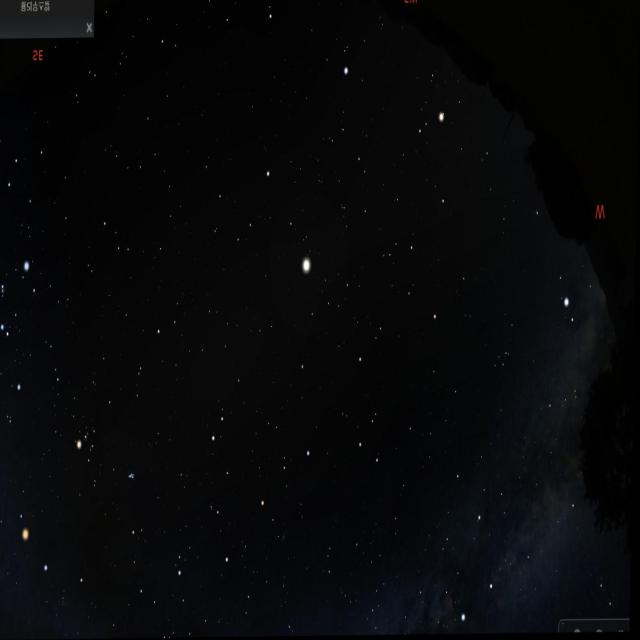cygnus: (455, 479, 585, 635)
orion: (0, 243, 36, 427)
pleiades: (122, 465, 145, 491)
taurus: (72, 400, 146, 505)
